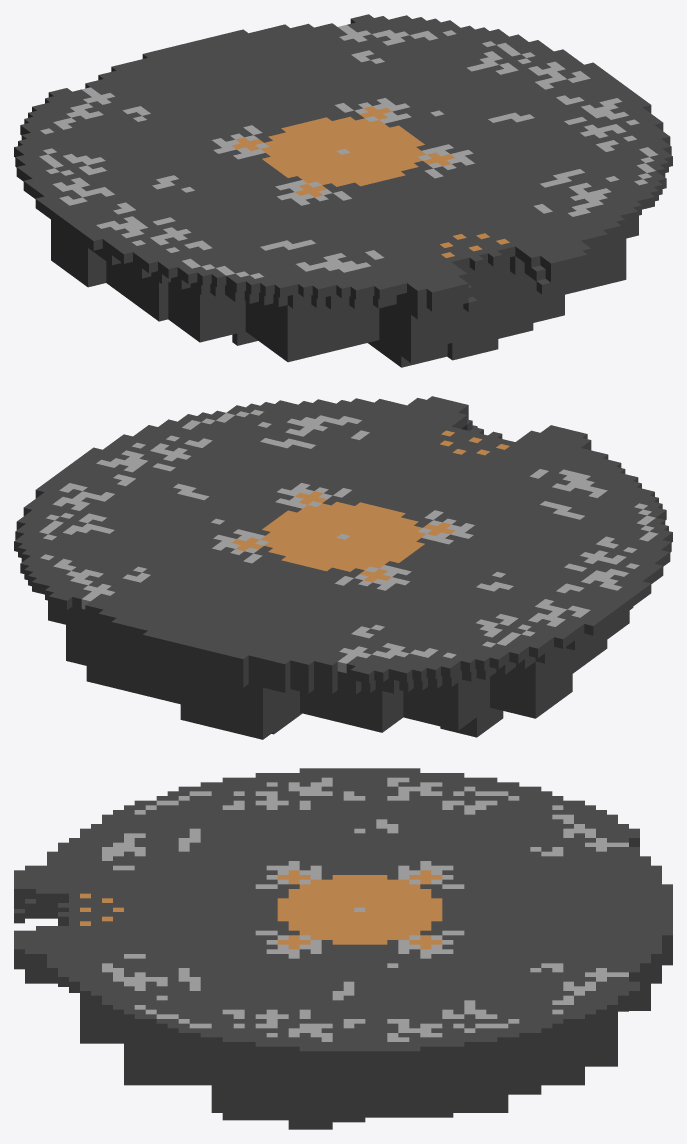
Rendered from ground.obj.
3 views of the same model, one above another, from view 1: azimuth 30°, elevation 25°; view 2: azimuth 150°, elevation 25°; view 3: azimuth 270°, elevation 25° (orthographic). The views are drawn at different scales.
Bounding box in the file's own units: 6.1 × 1.3 × 6.
